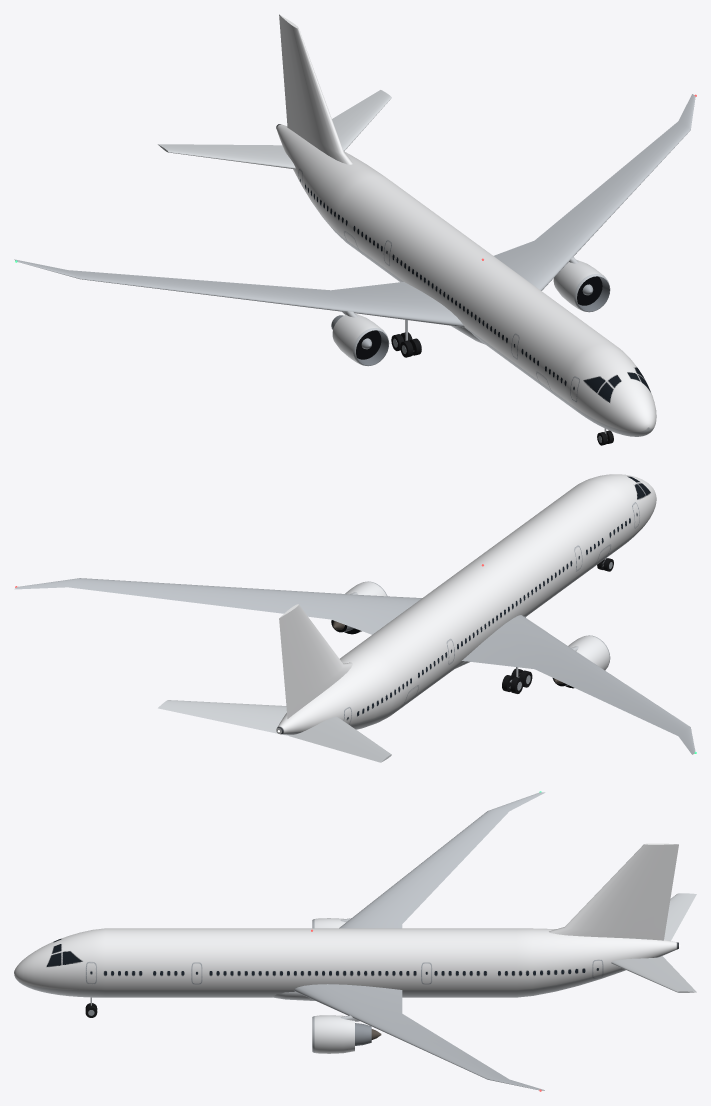
3 views of the same model, one above another, from view 1: azimuth 30°, elevation 25°; view 2: azimuth 150°, elevation 25°; view 3: azimuth 270°, elevation 25° (orthographic). The views are drawn at different scales.
Parts seen in each view (by area): view 1: body, gear; view 2: body, gear; view 3: body.
Part boxes in pixels (x1,y1,x2,y2): body: [14, 14, 696, 436]; gear: [391, 320, 613, 445]; body: [14, 474, 696, 762]; gear: [502, 558, 613, 693]; body: [14, 791, 696, 1091].
Bounding box in the file's own units: 60.42 × 16.15 × 58.25.
19 materials, 1 textured.
